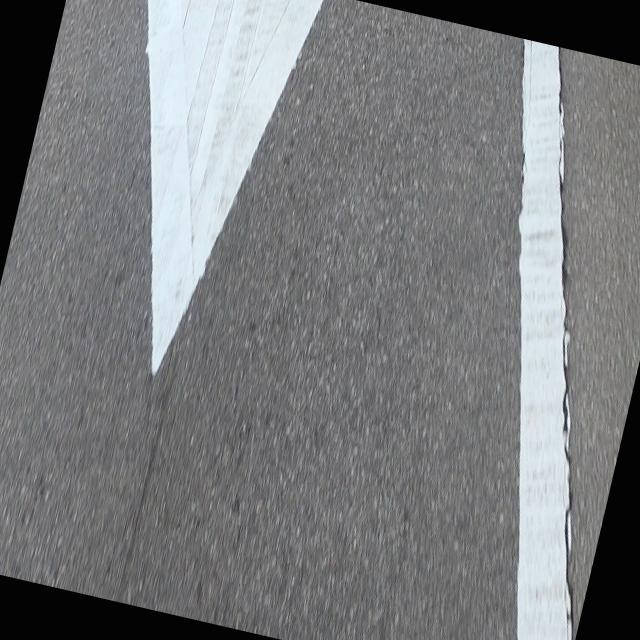Retak-Memanjang: (554, 46, 573, 640)
